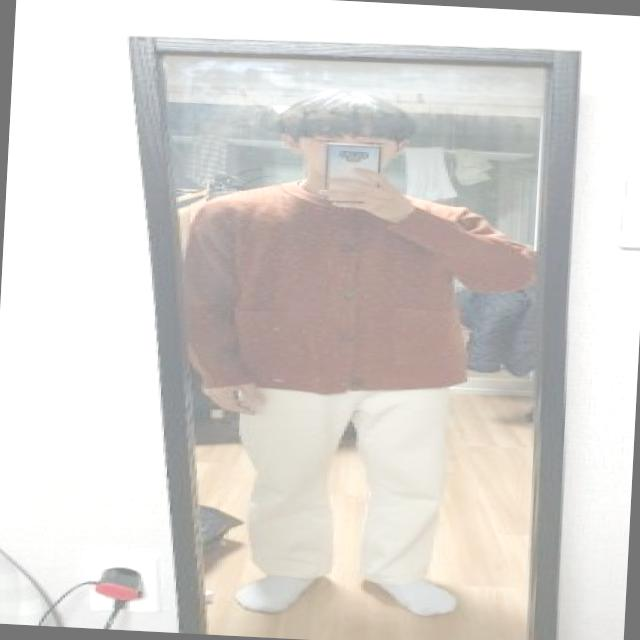cardigan: (173, 180, 542, 408)
cottonpants: (228, 379, 451, 586)
